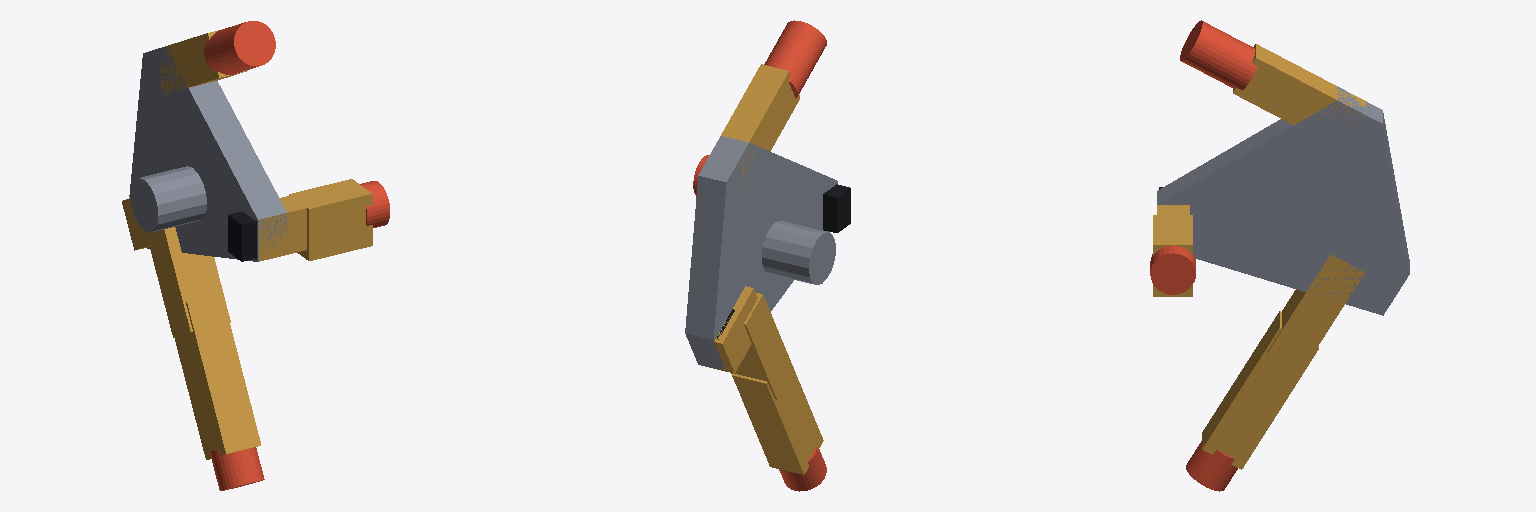
The robot description file, URDF, robot "g0070_c13":
<robot name="g0070_c13">
  <link name="palm">
    <visual name="palm_palm1">
      <origin xyz="0 0 0" rpy="0 0 0" />
      <geometry>
        <mesh filename="palm_palm1.obj" />
      </geometry>
      <material name="palm_palm1_mat">
        <color rgba="0.55 0.57 0.62 1" />
      </material>
    </visual>
    <collision>
      <origin xyz="0 0 0" rpy="0 0 0" />
      <geometry>
        <mesh filename="palm_palm1.obj" />
      </geometry>
    </collision>
    <visual name="palm_mount2">
      <origin xyz="0 0 0" rpy="0 0 0" />
      <geometry>
        <mesh filename="palm_mount2.obj" />
      </geometry>
      <material name="palm_mount2_mat">
        <color rgba="0.55 0.57 0.62 1" />
      </material>
    </visual>
    <collision>
      <origin xyz="0 0 0" rpy="0 0 0" />
      <geometry>
        <mesh filename="palm_mount2.obj" />
      </geometry>
    </collision>
    <visual name="palm_motor3">
      <origin xyz="-0.007 -0.08 4.5924255e-19" rpy="1.57079633 -1.57079633 0" />
      <geometry>
        <box size="0.029 0.034 0.02" />
      </geometry>
      <material name="palm_motor3_mat">
        <color rgba="0.15 0.15 0.17 1" />
      </material>
    </visual>
    <collision>
      <origin xyz="-0.007 -0.08 4.5924255e-19" rpy="1.57079633 -1.57079633 0" />
      <geometry>
        <box size="0.029 0.034 0.02" />
      </geometry>
    </collision>
    <visual name="palm_motor4">
      <origin xyz="-0.0045 0.0666996732 -0.0467548095" rpy="1.57079633 -0.523598776 -1.57079633" />
      <geometry>
        <box size="0.029 0.034 0.02" />
      </geometry>
      <material name="palm_motor4_mat">
        <color rgba="0.15 0.15 0.17 1" />
      </material>
    </visual>
    <collision>
      <origin xyz="-0.0045 0.0666996732 -0.0467548095" rpy="1.57079633 -0.523598776 -1.57079633" />
      <geometry>
        <box size="0.029 0.034 0.02" />
      </geometry>
    </collision>
    <visual name="palm_motor5">
      <origin xyz="0 0.0464951905 0.07625" rpy="-1.57079633 -1.04719755 1.57079633" />
      <geometry>
        <box size="0.029 0.034 0.02" />
      </geometry>
      <material name="palm_motor5_mat">
        <color rgba="0.15 0.15 0.17 1" />
      </material>
    </visual>
    <collision>
      <origin xyz="0 0.0464951905 0.07625" rpy="-1.57079633 -1.04719755 1.57079633" />
      <geometry>
        <box size="0.029 0.034 0.02" />
      </geometry>
    </collision>
    <inertial>
      <origin xyz="0 0.0123564261 0.0105126541" rpy="-1.57079633 -0.00026160554 -1.57079633" />
      <mass value="0.807098841" />
      <inertia ixx="0.00118362711" ixy="0" ixz="0" iyy="0.00167771086" iyz="0" izz="0.00278385649" />
    </inertial>
  </link>
  <link name="f0_link0">
    <visual name="f0_link0_link1">
      <origin xyz="0.01875 0 0" rpy="0 -3.00807789e-49 0" />
      <geometry>
        <box size="0.0615 0.033 0.024" />
      </geometry>
      <material name="f0_link0_link1_mat">
        <color rgba="0.80 0.62 0.30 1" />
      </material>
    </visual>
    <collision>
      <origin xyz="0.01875 0 0" rpy="0 -3.00807789e-49 0" />
      <geometry>
        <box size="0.0615 0.033 0.024" />
      </geometry>
    </collision>
    <inertial>
      <origin xyz="0.01875 0 0" rpy="0 0 0" />
      <mass value="0.085239" />
      <inertia ixx="1.18269113e-05" ixy="0" ixz="0" iyy="3.09577393e-05" iyz="0" izz="3.46017066e-05" />
    </inertial>
  </link>
  <link name="f0_link1">
    <visual name="f0_link1_link1">
      <origin xyz="0.014 -0.004 0" rpy="0 -3.00807789e-49 0" />
      <geometry>
        <box size="0.052 0.041 0.029" />
      </geometry>
      <material name="f0_link1_link1_mat">
        <color rgba="0.80 0.62 0.30 1" />
      </material>
    </visual>
    <collision>
      <origin xyz="0.014 -0.004 0" rpy="0 -3.00807789e-49 0" />
      <geometry>
        <box size="0.052 0.041 0.029" />
      </geometry>
    </collision>
    <inertial>
      <origin xyz="0.014 -0.004 0" rpy="0 0 0" />
      <mass value="0.108199" />
      <inertia ixx="2.27398232e-05" ixy="0" ixz="0" iyy="3.19637879e-05" iyz="0" izz="3.95377179e-05" />
    </inertial>
  </link>
  <link name="f0_link2">
    <visual name="f0_link2_link1">
      <origin xyz="0.014 -1.54074396e-33 0" rpy="-1.57079633 -0 -1.57079633" />
      <geometry>
        <cylinder radius="0.0165" length="0.019" />
      </geometry>
      <material name="f0_link2_link1_mat">
        <color rgba="0.85 0.35 0.25 1" />
      </material>
    </visual>
    <collision>
      <origin xyz="0.014 -1.54074396e-33 0" rpy="-1.57079633 -0 -1.57079633" />
      <geometry>
        <cylinder radius="0.0165" length="0.019" />
      </geometry>
    </collision>
    <inertial>
      <origin xyz="0.014 0 0" rpy="0 0 0" />
      <mass value="0.0613676745" />
      <inertia ixx="7.45718278e-06" ixy="0" ixz="0" iyy="1.32201625e-05" iyz="0" izz="1.32201625e-05" />
    </inertial>
  </link>
  <link name="f1_link0">
    <visual name="f1_link0_link1">
      <origin xyz="-0.00625 0 -0.0165" rpy="0 4.06369831e-17 0" />
      <geometry>
        <box size="0.0365 0.029 0.053" />
      </geometry>
      <material name="f1_link0_link1_mat">
        <color rgba="0.80 0.62 0.30 1" />
      </material>
    </visual>
    <collision>
      <origin xyz="-0.00625 0 -0.0165" rpy="0 4.06369831e-17 0" />
      <geometry>
        <box size="0.0365 0.029 0.053" />
      </geometry>
    </collision>
    <inertial>
      <origin xyz="-0.00625 0 -0.0165" rpy="0 0 0" />
      <mass value="0.098175875" />
      <inertia ixx="2.98618286e-05" ixy="0" ixz="0" iyy="3.38809035e-05" iyz="0" izz="1.778006e-05" />
    </inertial>
  </link>
  <link name="f1_link1">
    <visual name="f1_link1_link1">
      <origin xyz="0.03375 0 6.9388939e-18" rpy="0 4.06369831e-17 0" />
      <geometry>
        <box size="0.0915 0.033 0.029" />
      </geometry>
      <material name="f1_link1_link1_mat">
        <color rgba="0.80 0.62 0.30 1" />
      </material>
    </visual>
    <collision>
      <origin xyz="0.03375 0 6.9388939e-18" rpy="0 4.06369831e-17 0" />
      <geometry>
        <box size="0.0915 0.033 0.029" />
      </geometry>
    </collision>
    <inertial>
      <origin xyz="0.03375 0 0" rpy="0 0 0" />
      <mass value="0.153239625" />
      <inertia ixx="2.46460397e-05" ixy="0" ixz="0" iyy="0.000117652915" iyz="0" izz="0.000120819867" />
    </inertial>
  </link>
  <link name="f1_link2">
    <visual name="f1_link2_link1">
      <origin xyz="0.04375 0 -6.9388939e-18" rpy="0 4.06369831e-17 0" />
      <geometry>
        <box size="0.1115 0.029 0.033" />
      </geometry>
      <material name="f1_link2_link1_mat">
        <color rgba="0.80 0.62 0.30 1" />
      </material>
    </visual>
    <collision>
      <origin xyz="0.04375 0 -6.9388939e-18" rpy="0 4.06369831e-17 0" />
      <geometry>
        <box size="0.1115 0.029 0.033" />
      </geometry>
    </collision>
    <inertial>
      <origin xyz="0.04375 0 0" rpy="0 0 0" />
      <mass value="0.186734625" />
      <inertia ixx="3.00331522e-05" ixy="0" ixz="0" iyy="0.000210407129" iyz="0" izz="0.000206547947" />
    </inertial>
  </link>
  <link name="f1_link3">
    <visual name="f1_link3_link1">
      <origin xyz="0.019 0 -1.73472348e-17" rpy="-1.57079633 -0 -1.57079633" />
      <geometry>
        <cylinder radius="0.0165" length="0.029" />
      </geometry>
      <material name="f1_link3_link1_mat">
        <color rgba="0.85 0.35 0.25 1" />
      </material>
    </visual>
    <collision>
      <origin xyz="0.019 0 -1.73472348e-17" rpy="-1.57079633 -0 -1.57079633" />
      <geometry>
        <cylinder radius="0.0165" length="0.029" />
      </geometry>
    </collision>
    <inertial>
      <origin xyz="0.019 0 0" rpy="0 0 0" />
      <mass value="0.0763354" />
      <inertia ixx="9.49466441e-06" ixy="0" ixz="0" iyy="2.24143997e-05" iyz="0" izz="2.24143997e-05" />
    </inertial>
  </link>
  <link name="f2_link0">
    <visual name="f2_link0_link1">
      <origin xyz="0.03375 0 0" rpy="0 7.03853194e-17 0" />
      <geometry>
        <box size="0.0915 0.024 0.033" />
      </geometry>
      <material name="f2_link0_link1_mat">
        <color rgba="0.80 0.62 0.30 1" />
      </material>
    </visual>
    <collision>
      <origin xyz="0.03375 0 0" rpy="0 7.03853194e-17 0" />
      <geometry>
        <box size="0.0915 0.024 0.033" />
      </geometry>
    </collision>
    <inertial>
      <origin xyz="0.03375 0 0" rpy="0 0 0" />
      <mass value="0.126819" />
      <inertia ixx="1.75961363e-05" ixy="0" ixz="0" iyy="9.99888553e-05" iyz="0" izz="9.45673431e-05" />
    </inertial>
  </link>
  <link name="f2_link1">
    <visual name="f2_link1_link1">
      <origin xyz="0.029 0 -6.9388939e-18" rpy="-1.57079633 -0 -1.57079633" />
      <geometry>
        <cylinder radius="0.0165" length="0.049" />
      </geometry>
      <material name="f2_link1_link1_mat">
        <color rgba="0.85 0.35 0.25 1" />
      </material>
    </visual>
    <collision>
      <origin xyz="0.029 0 -6.9388939e-18" rpy="-1.57079633 -0 -1.57079633" />
      <geometry>
        <cylinder radius="0.0165" length="0.049" />
      </geometry>
    </collision>
    <inertial>
      <origin xyz="0.029 0 0" rpy="0 0 0" />
      <mass value="0.106270851" />
      <inertia ixx="1.35696277e-05" ixy="0" ixz="0" iyy="5.30015704e-05" iyz="0" izz="5.30015704e-05" />
    </inertial>
  </link>
  <joint name="f0_j0" type="revolute">
    <parent link="palm" />
    <child link="f0_link0" />
    <origin xyz="0.0005 -0.08 0" rpy="1.57079633 6.123234e-17 7.49879891e-33" />
    <axis xyz="0 1 6.123234e-17" />
    <limit effort="0.5" lower="-0.523598776" upper="0.523598776" velocity="5" />
    <dynamics damping="0.0775033" friction="0" />
  </joint>
  <joint name="f0_j1" type="revolute">
    <parent link="f0_link0" />
    <child link="f0_link1" />
    <origin xyz="0.04 0 0" rpy="0 0 0" />
    <axis xyz="0 1 6.123234e-17" />
    <limit effort="0.5" lower="-0.523598776" upper="0.523598776" velocity="5" />
    <dynamics damping="0.0775033" friction="0" />
  </joint>
  <joint name="f0_j2" type="revolute">
    <parent link="f0_link1" />
    <child link="f0_link2" />
    <origin xyz="0.03 0 0" rpy="0 0 0" />
    <axis xyz="0 0 1" />
    <limit effort="0.5" lower="-0.523598776" upper="1.57079633" velocity="5" />
    <dynamics damping="0.0775033" friction="0" />
  </joint>
  <joint name="f1_j0" type="revolute">
    <parent link="palm" />
    <child link="f1_link0" />
    <origin xyz="-0.0045 0.04 -0.04" rpy="0 1.04719755 -1.57079633" />
    <axis xyz="0 0 1" />
    <limit effort="0.5" lower="-0.523598776" upper="1.57079633" velocity="5" />
    <dynamics damping="0.0775033" friction="0" />
  </joint>
  <joint name="f1_j1" type="revolute">
    <parent link="f1_link0" />
    <child link="f1_link1" />
    <origin xyz="0 0 0" rpy="0 0 0" />
    <axis xyz="0 1 6.123234e-17" />
    <limit effort="0.5" lower="-0.523598776" upper="0.523598776" velocity="5" />
    <dynamics damping="0.0775033" friction="0" />
  </joint>
  <joint name="f1_j2" type="revolute">
    <parent link="f1_link1" />
    <child link="f1_link2" />
    <origin xyz="0.07 0 0" rpy="0 0 0" />
    <axis xyz="0 0 1" />
    <limit effort="0.5" lower="-0.523598776" upper="1.57079633" velocity="5" />
    <dynamics damping="0.0775033" friction="0" />
  </joint>
  <joint name="f1_j3" type="revolute">
    <parent link="f1_link2" />
    <child link="f1_link3" />
    <origin xyz="0.09 0 0" rpy="0 0 0" />
    <axis xyz="0 1 6.123234e-17" />
    <limit effort="0.5" lower="-0.523598776" upper="0.523598776" velocity="5" />
    <dynamics damping="0.0775033" friction="0" />
  </joint>
  <joint name="f2_j0" type="revolute">
    <parent link="palm" />
    <child link="f2_link0" />
    <origin xyz="0 0.04 0.08" rpy="-0 -0.523598776 -1.57079633" />
    <axis xyz="0 0 1" />
    <limit effort="0.5" lower="-0.523598776" upper="1.57079633" velocity="5" />
    <dynamics damping="0.0775033" friction="0" />
  </joint>
  <joint name="f2_j1" type="revolute">
    <parent link="f2_link0" />
    <child link="f2_link1" />
    <origin xyz="0.07 0 0" rpy="0 0 0" />
    <axis xyz="0 0 1" />
    <limit effort="0.5" lower="-0.523598776" upper="1.57079633" velocity="5" />
    <dynamics damping="0.0775033" friction="0" />
  </joint>
</robot>

--- Render facts (derived) ---
Views: 3 orthographic renders of the robot side by side, from view 1: azimuth 30°, elevation 25°; view 2: azimuth 150°, elevation 25°; view 3: azimuth 270°, elevation 25°.
Model g0070_c13 with 10 links and 9 joints (9 revolute), rooted at palm, posed every joint at zero.
Links seen in each view (by area): view 1: palm, f1_link2, f0_link1, f1_link1, f2_link1, f0_link0, f2_link0, f1_link3, f0_link2, f1_link0; view 2: palm, f1_link2, f2_link0, f1_link1, f2_link1, f1_link0, f1_link3; view 3: palm, f1_link2, f1_link1, f2_link0, f2_link1, f0_link2, f1_link3, f0_link1, f0_link0.
Link boxes in pixels (<box>): palm: <box>129,47,286,261</box>; f1_link2: <box>175,294,260,459</box>; f0_link1: <box>289,179,372,260</box>; f1_link1: <box>146,227,230,337</box>; f2_link1: <box>204,21,275,74</box>; f0_link0: <box>259,191,333,261</box>; f2_link0: <box>160,30,247,95</box>; f1_link3: <box>210,447,264,490</box>; f0_link2: <box>360,181,389,227</box>; f1_link0: <box>122,198,149,250</box>; palm: <box>685,136,850,369</box>; f1_link2: <box>732,370,823,474</box>; f2_link0: <box>721,64,799,190</box>; f1_link1: <box>731,293,793,399</box>; f2_link1: <box>764,20,826,97</box>; f1_link0: <box>701,286,757,373</box>; f1_link3: <box>779,447,826,491</box>; palm: <box>1157,86,1409,315</box>; f1_link2: <box>1202,311,1318,469</box>; f1_link1: <box>1267,254,1364,371</box>; f2_link0: <box>1233,44,1365,142</box>; f2_link1: <box>1180,20,1257,90</box>; f0_link2: <box>1150,245,1195,294</box>; f1_link3: <box>1186,441,1237,491</box>; f0_link1: <box>1153,215,1192,296</box>; f0_link0: <box>1157,205,1189,227</box>.
Size in the robot's own frame: 0.146 by 0.187 by 0.3719 metres.
2 mesh visuals loaded from 2 distinct referenced files (2 OBJ).
